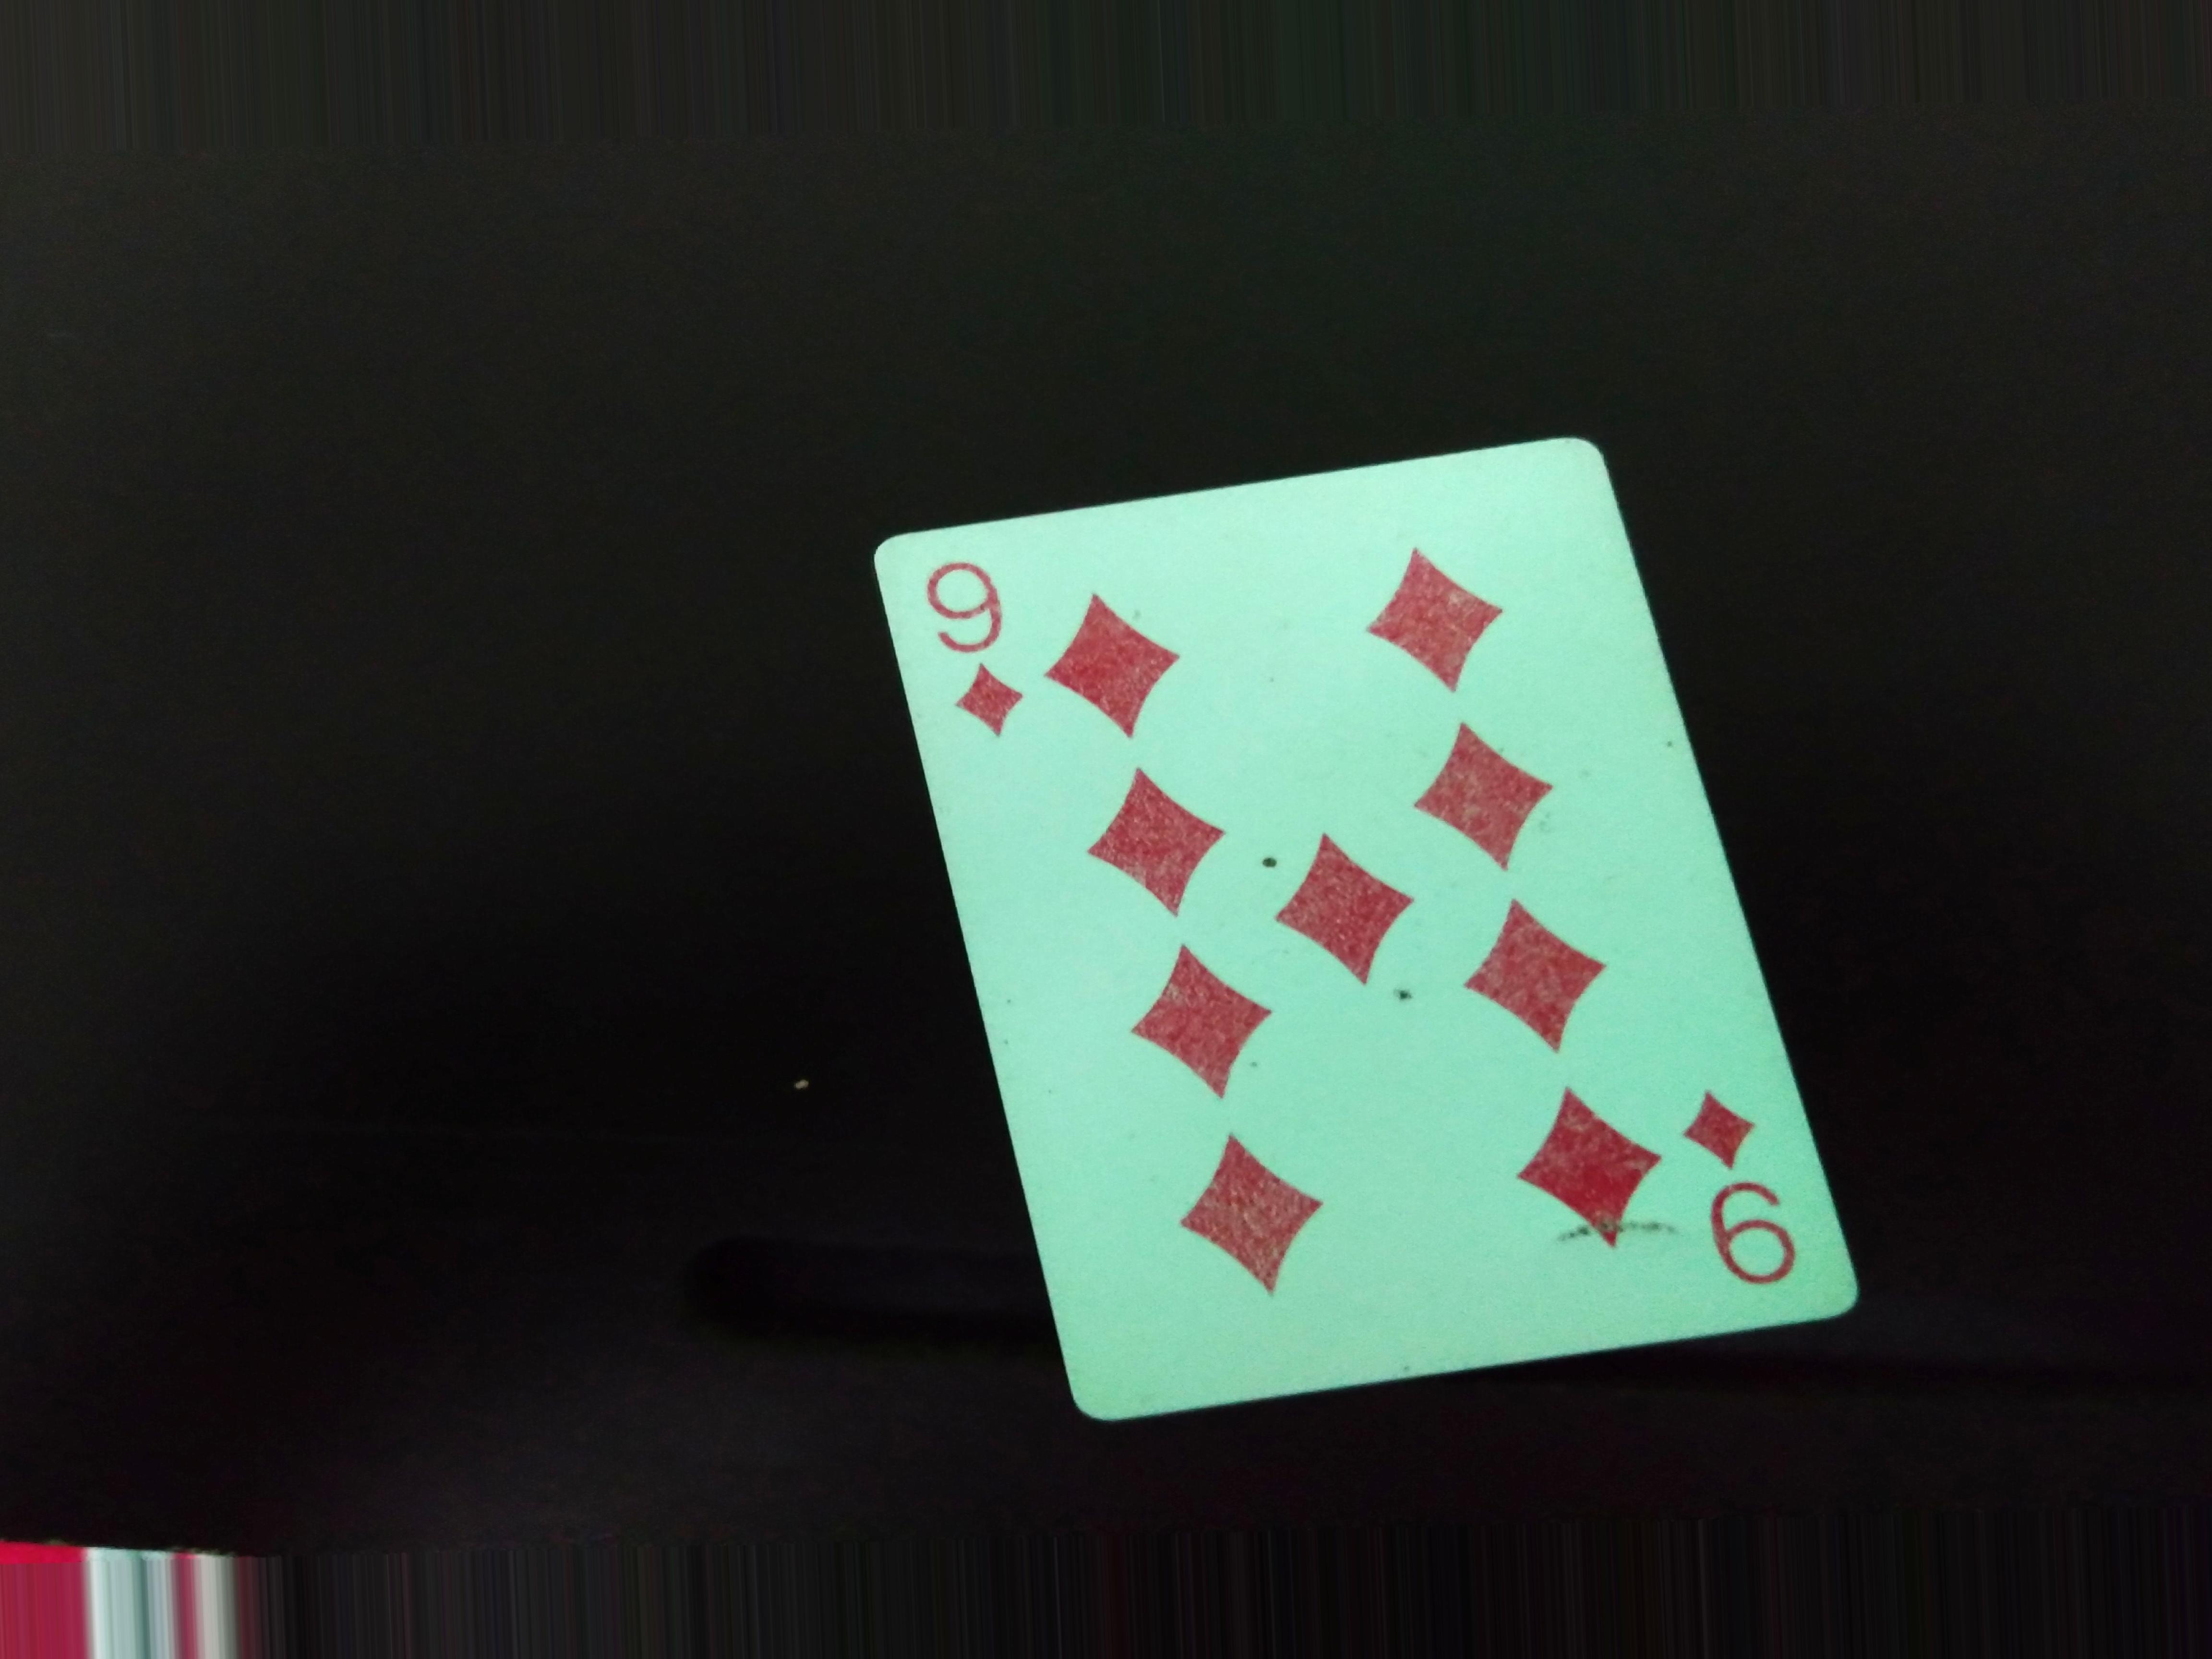9D: (913, 538, 1038, 751)
